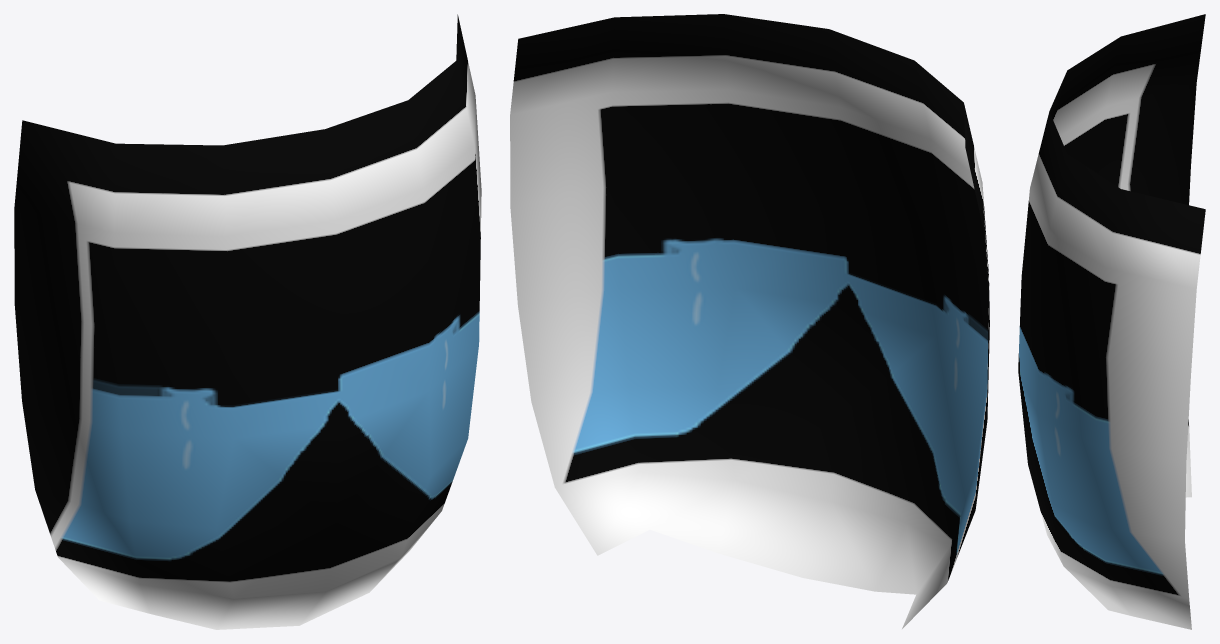
The model's file is Expressions.fbx.
3 views of the same model, side by side, from view 1: azimuth 30°, elevation 25°; view 2: azimuth 150°, elevation 25°; view 3: azimuth 270°, elevation 25° (orthographic). The views are drawn at different scales.
Parts seen in each view (by area): view 1: Expressions; view 2: Expressions; view 3: Expressions.
Part boxes in pixels (x1,y1,x2,y2): Expressions: (14, 14, 481, 629); Expressions: (510, 14, 989, 628); Expressions: (1018, 14, 1205, 629).
Size of the model in its own units: 22.5 by 23.74 by 8.52.
